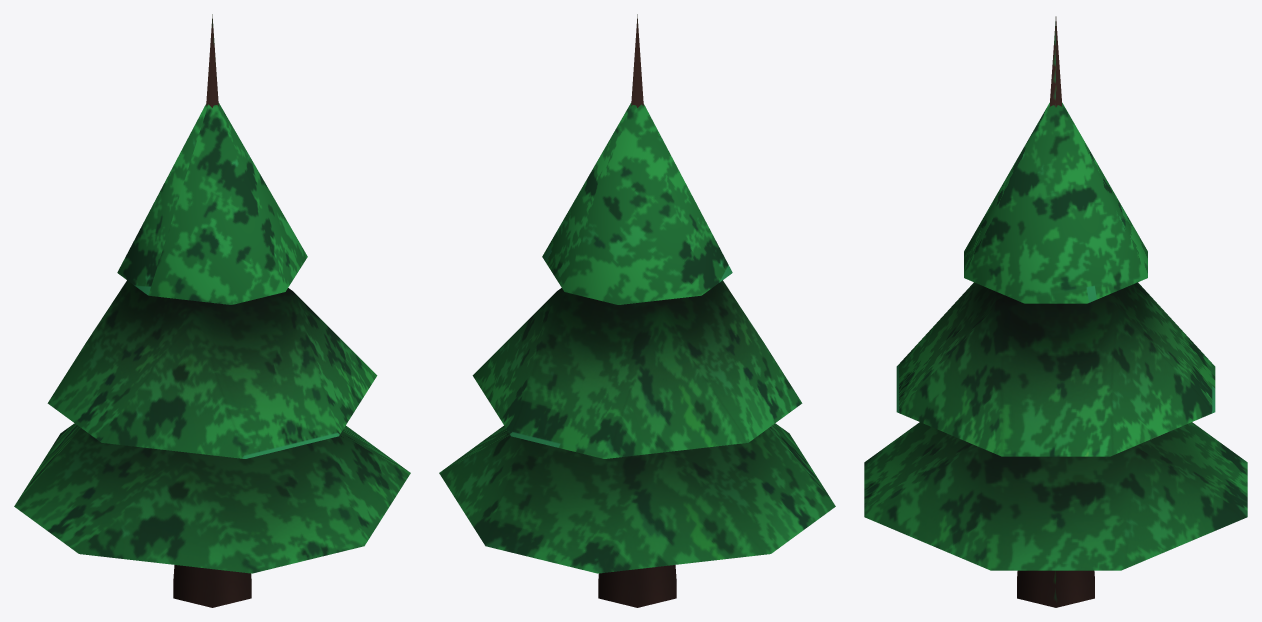
File: resourceWood.FBX
The picture shows the model from 3 angles, left to right: view 1: azimuth 30°, elevation 25°; view 2: azimuth 150°, elevation 25°; view 3: azimuth 270°, elevation 25°; orthographic projection.
Visible parts, largest first — view 1: resourceWood; view 2: resourceWood; view 3: resourceWood.
Part boxes in pixels (<box>): resourceWood: <box>14,14,410,607</box>; resourceWood: <box>439,14,835,607</box>; resourceWood: <box>864,16,1247,607</box>.
Bounding box in the file's own units: 94.32 × 156 × 94.32.
